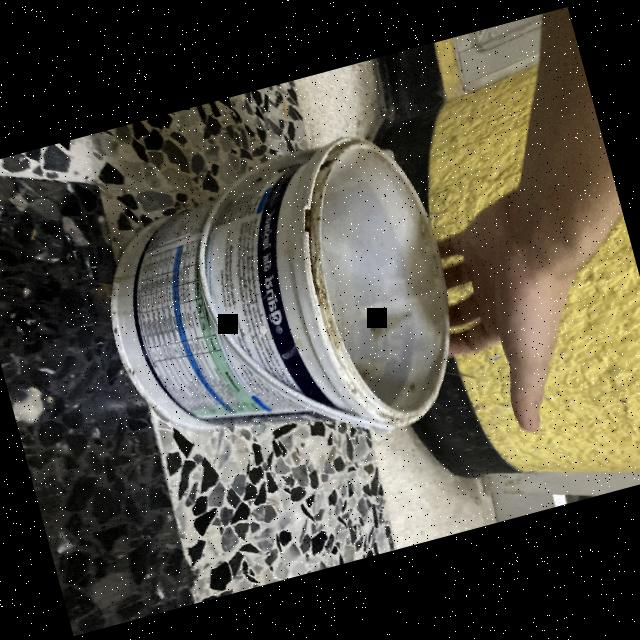paint_bucket: (76, 110, 487, 492)
plastic_bottle: (233, 363, 365, 578), (277, 246, 313, 364)
